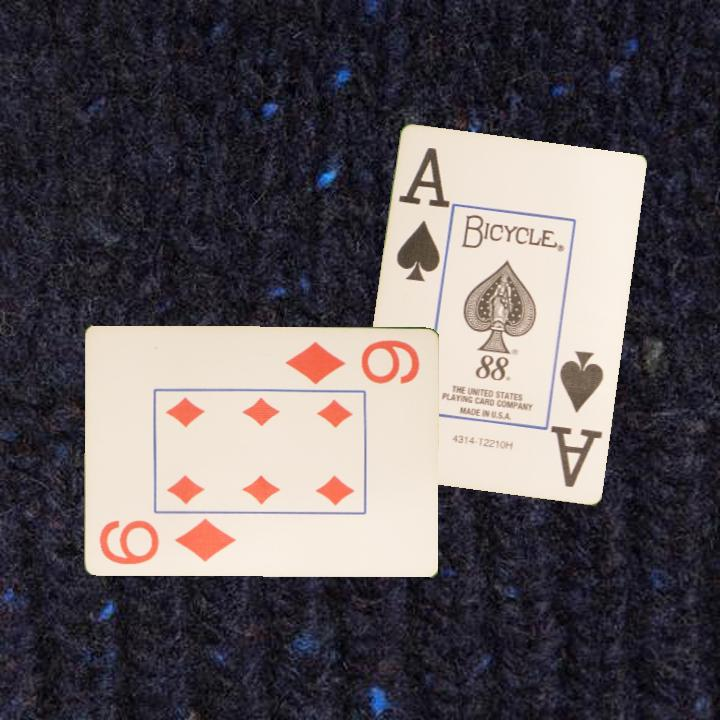6d: (95, 515, 238, 569), (282, 336, 422, 388)
As: (393, 144, 452, 285), (556, 347, 607, 478)
